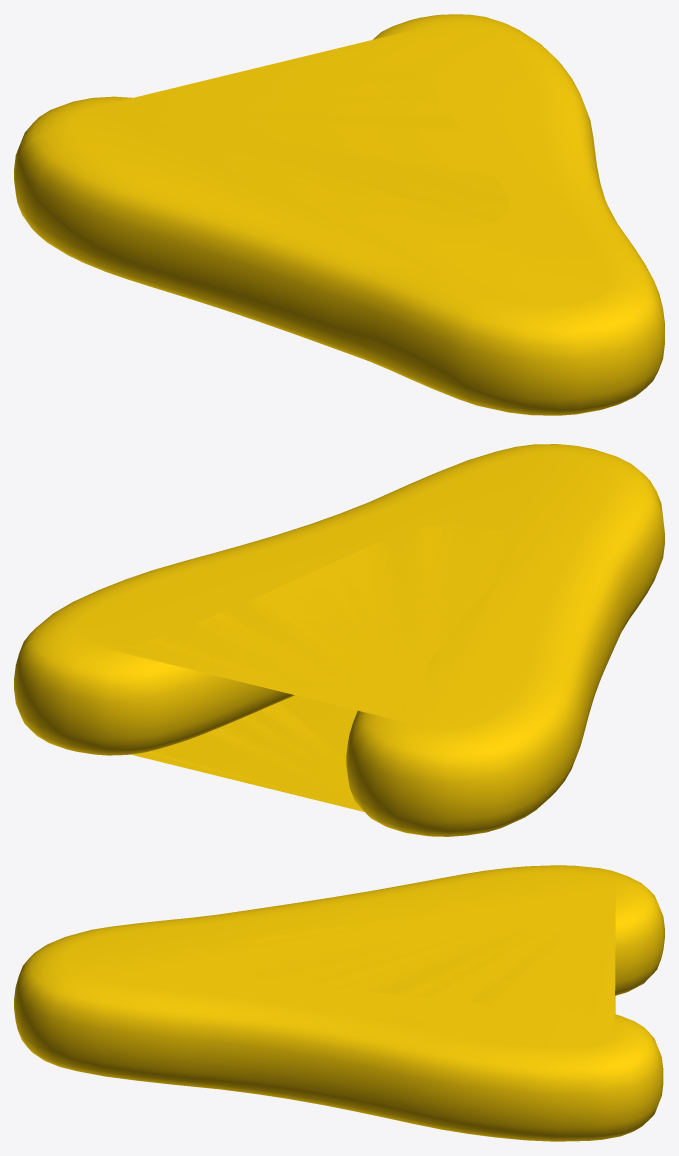
3 renders of one model, top to bottom at view 1: azimuth 30°, elevation 25°; view 2: azimuth 150°, elevation 25°; view 3: azimuth 270°, elevation 25°, orthographic. The views are drawn at different scales.
Visible parts, largest first — view 1: Curve.023; view 2: Curve.023; view 3: Curve.023.
Boxes of the visible parts, bbox=[...] form: Curve.023: bbox=[14, 14, 664, 415]; Curve.023: bbox=[14, 444, 664, 836]; Curve.023: bbox=[14, 865, 664, 1141].
Bounding box in the file's own units: 263 × 49.54 × 335.
Materials: 1 (1 with a texture image).
